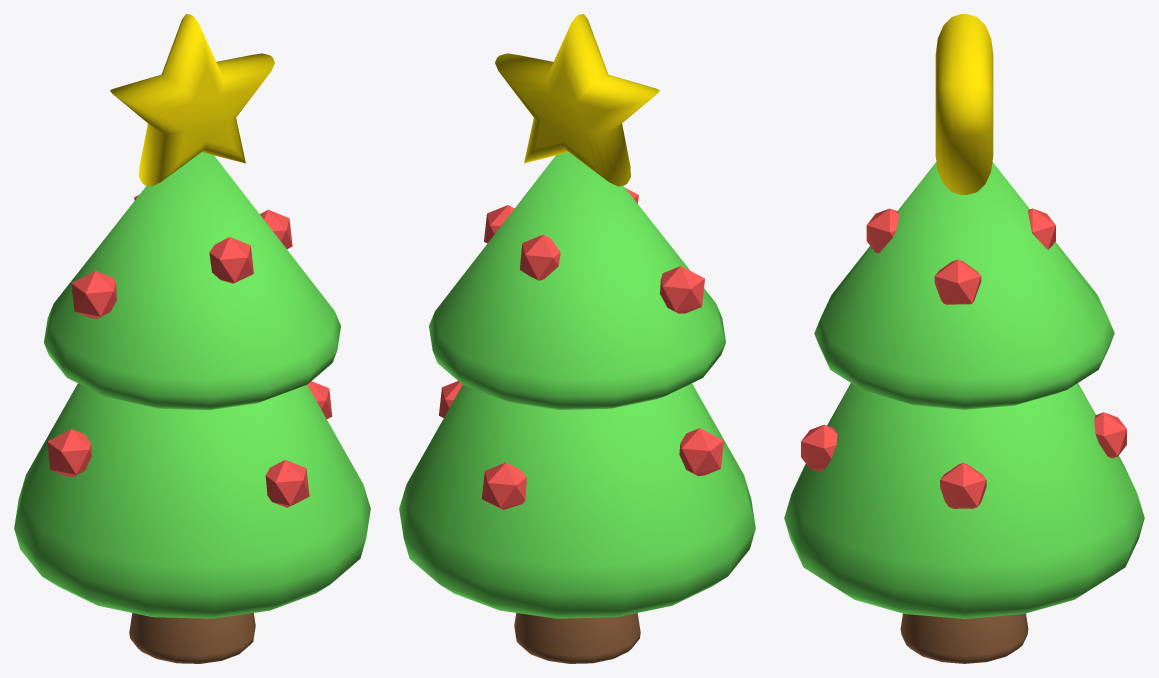
File: tree1.glb
3 views of the same model, side by side, from view 1: azimuth 30°, elevation 25°; view 2: azimuth 150°, elevation 25°; view 3: azimuth 270°, elevation 25° (orthographic).
Parts seen in each view (by area): view 1: Cylinder; view 2: Cylinder; view 3: Cylinder.
Boxes of the visible parts, x1,y1,x2,y2 form: Cylinder: (14, 14, 370, 663); Cylinder: (399, 14, 755, 663); Cylinder: (784, 14, 1144, 663).
Bounding box in the file's own units: 1.04 × 2 × 1.04.
